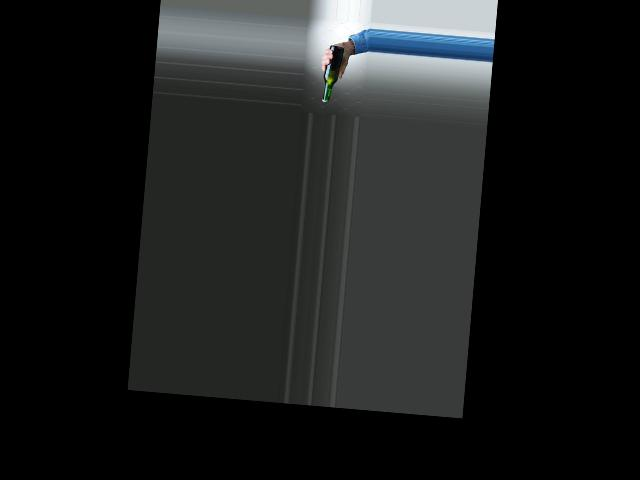beer: (321, 44, 345, 104)
